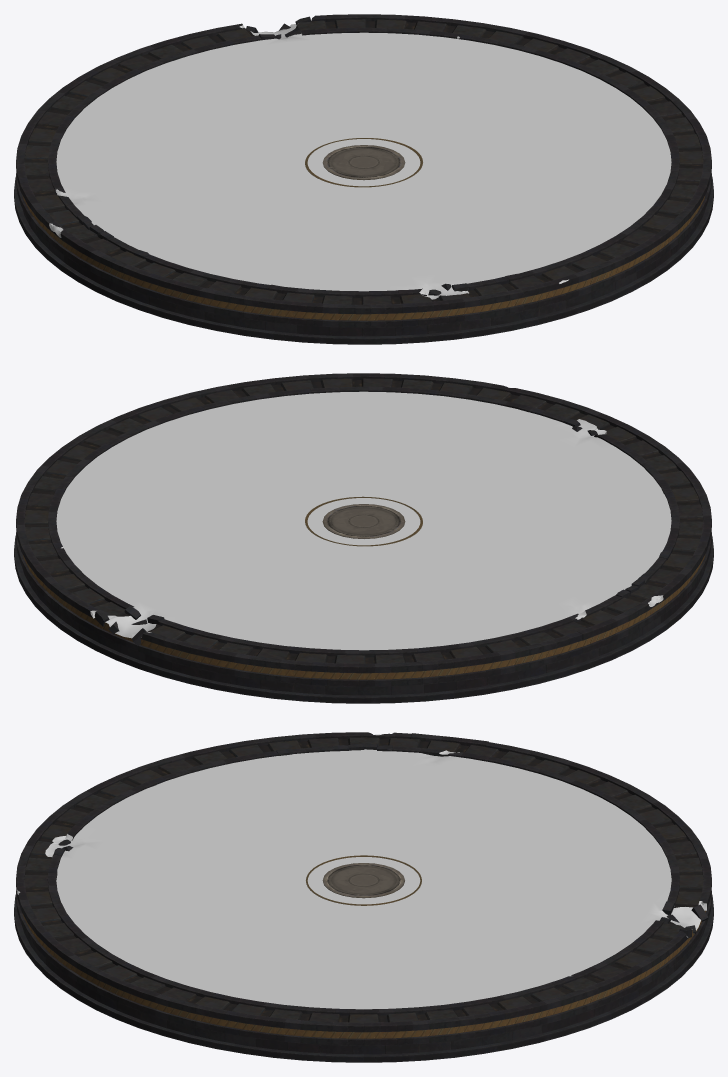
The model's file is Enviro.fbx.
3 renders of one model, top to bottom at view 1: azimuth 30°, elevation 25°; view 2: azimuth 150°, elevation 25°; view 3: azimuth 270°, elevation 25°, orthographic.
Visible parts, largest first — view 1: Enviro; view 2: Enviro; view 3: Enviro.
Part boxes in pixels (x1,y1,x2,y2): Enviro: (14,14,713,344); Enviro: (14,373,713,703); Enviro: (14,732,713,1062).
Bounding box in the file's own units: 32.5 × 1.96 × 32.5.
